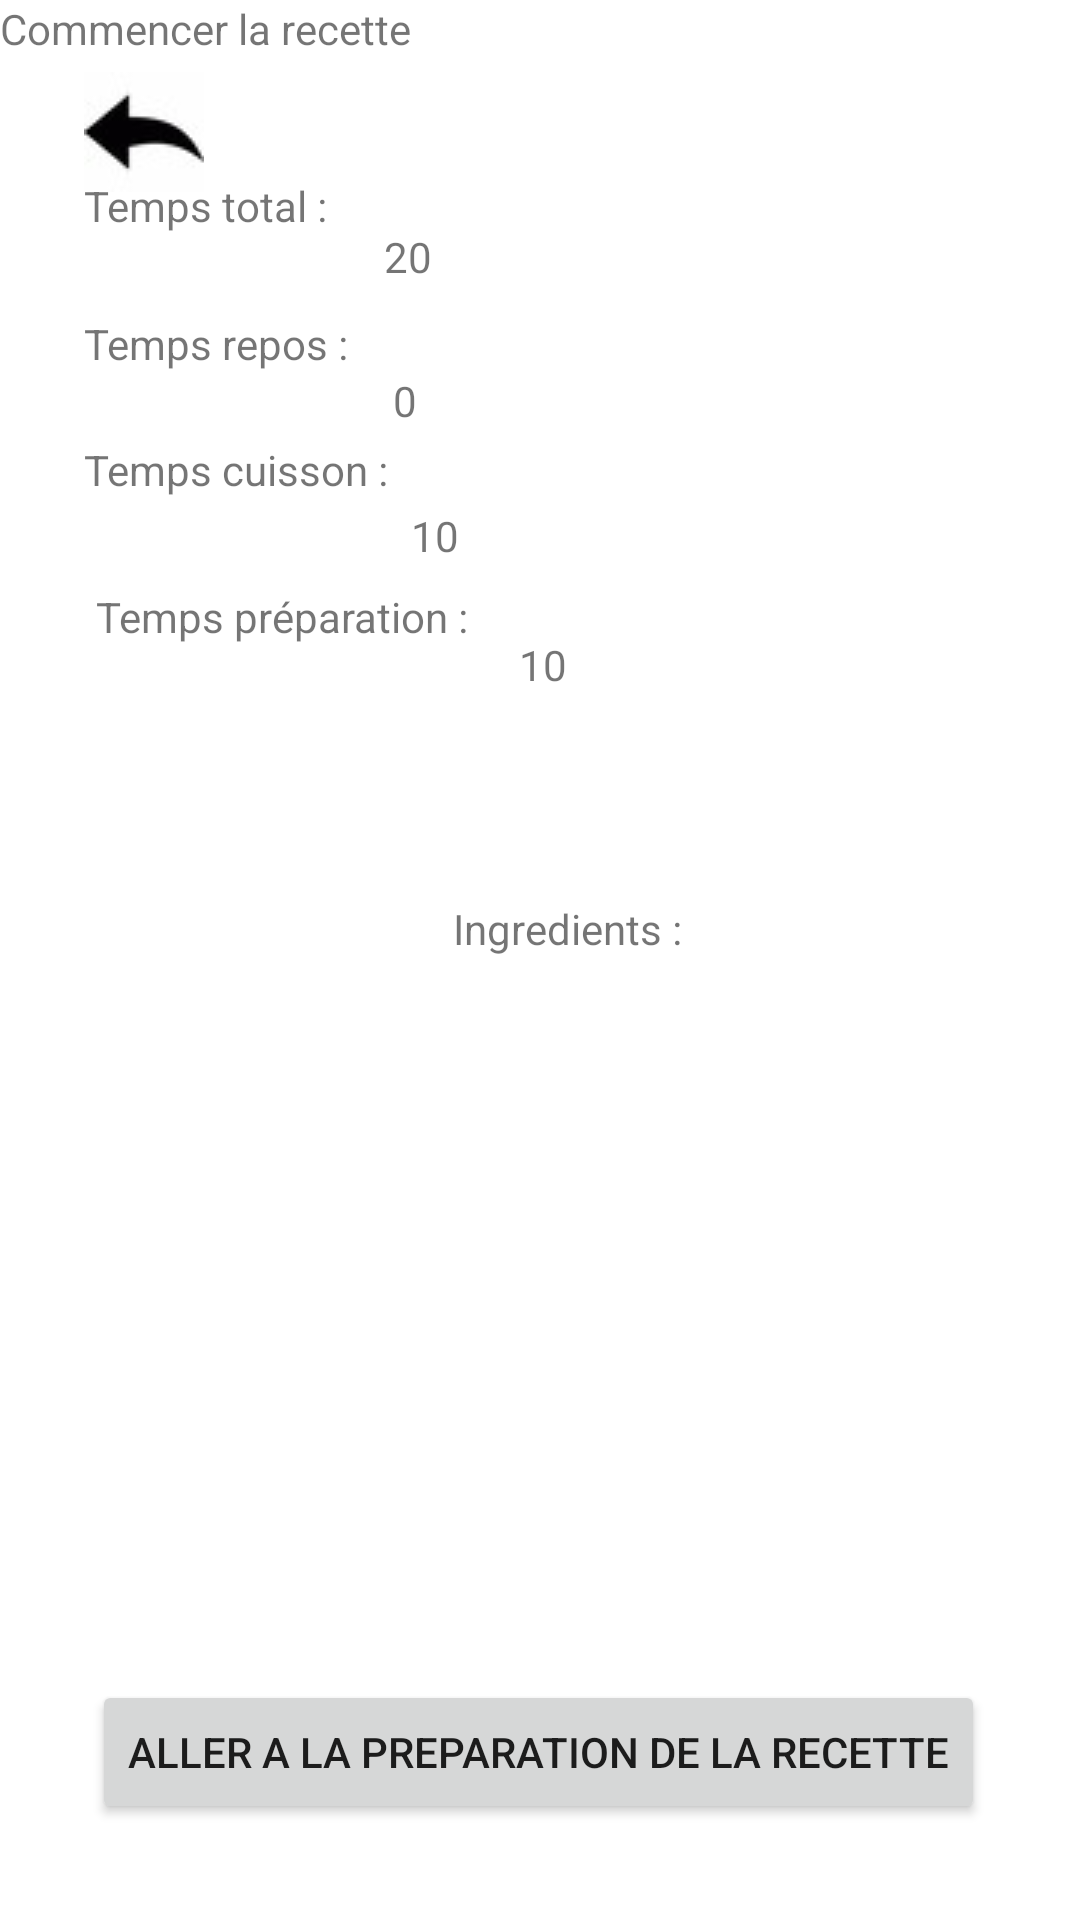

Where icons sit on this 1080px×1920px app screen, as (x1, y1, x2, y2):
fleche retour: (84, 94, 204, 170)
